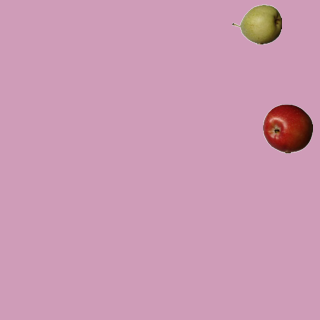Apple Braeburn: (262, 103, 312, 153)
Pear: (231, 0, 281, 49)
